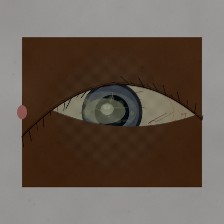corneal_ulcer: (71, 84, 138, 138)
